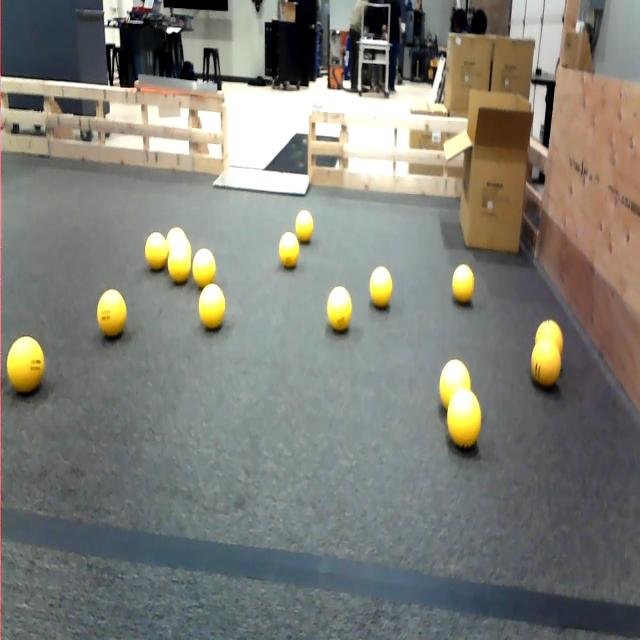fuel: (6, 310, 45, 415), (445, 378, 485, 456), (93, 278, 132, 357), (193, 271, 229, 330), (533, 335, 565, 398), (436, 356, 481, 395), (446, 262, 479, 306), (279, 228, 303, 282), (164, 238, 192, 284), (192, 244, 217, 288), (326, 289, 351, 332), (370, 260, 390, 312), (146, 228, 167, 275), (164, 218, 191, 245), (537, 321, 566, 346), (296, 207, 313, 248)
